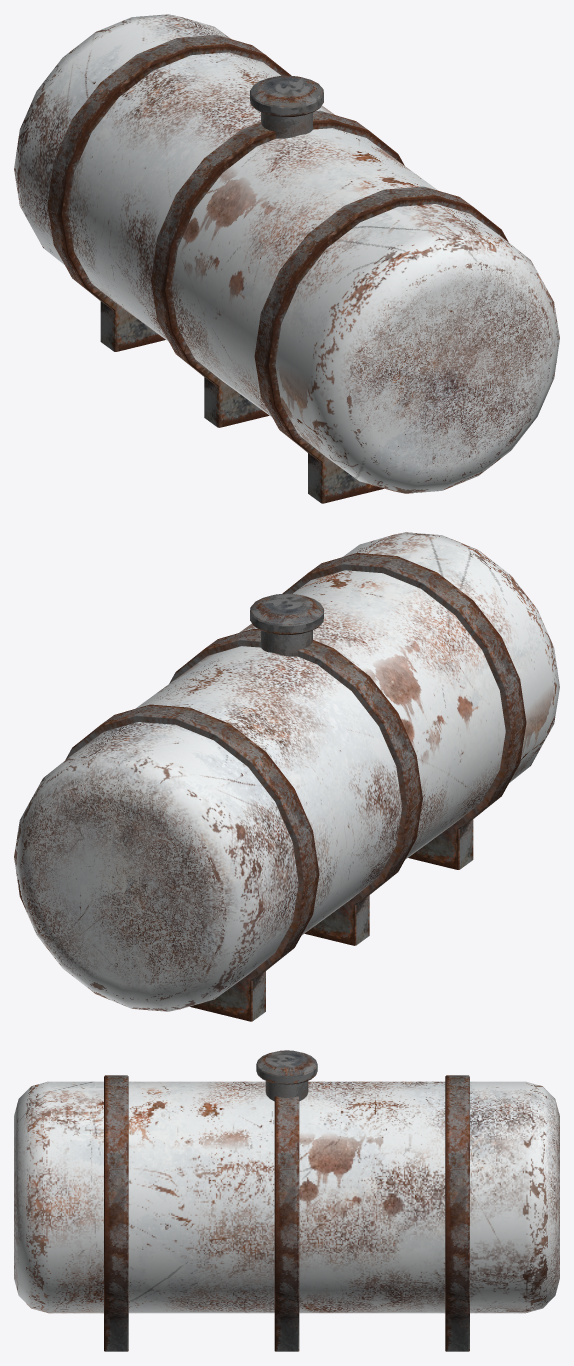
The model's file is PressureTank.fbx.
The picture shows the model from 3 angles, top to bottom: view 1: azimuth 30°, elevation 25°; view 2: azimuth 150°, elevation 25°; view 3: azimuth 270°, elevation 25°; orthographic projection. The views are drawn at different scales.
Parts seen in each view (by area): view 1: PressureTank; view 2: PressureTank; view 3: PressureTank.
Part boxes in pixels (x1,y1,x2,y2): PressureTank: (14,14,559,503); PressureTank: (14,532,559,1021); PressureTank: (14,1050,559,1351).
Bounding box in the file's own units: 72.05 × 84.6 × 160.
1 material, 1 textured.
